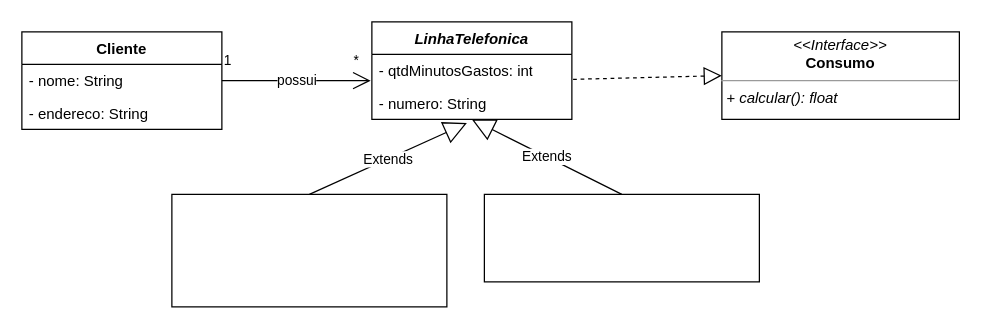
Image size: 981x329. Some labels were removed from this diagram. The centre of each missing label's shape, as x and y in pixels:
"<<Leaf>> Movel - planoDeDadosHabilitado: boolean" goes at point (621, 237).
"Fixa + FRANQUIA: int = 30 + calcular(minutosExcedentes: int): float" goes at point (309, 250).
